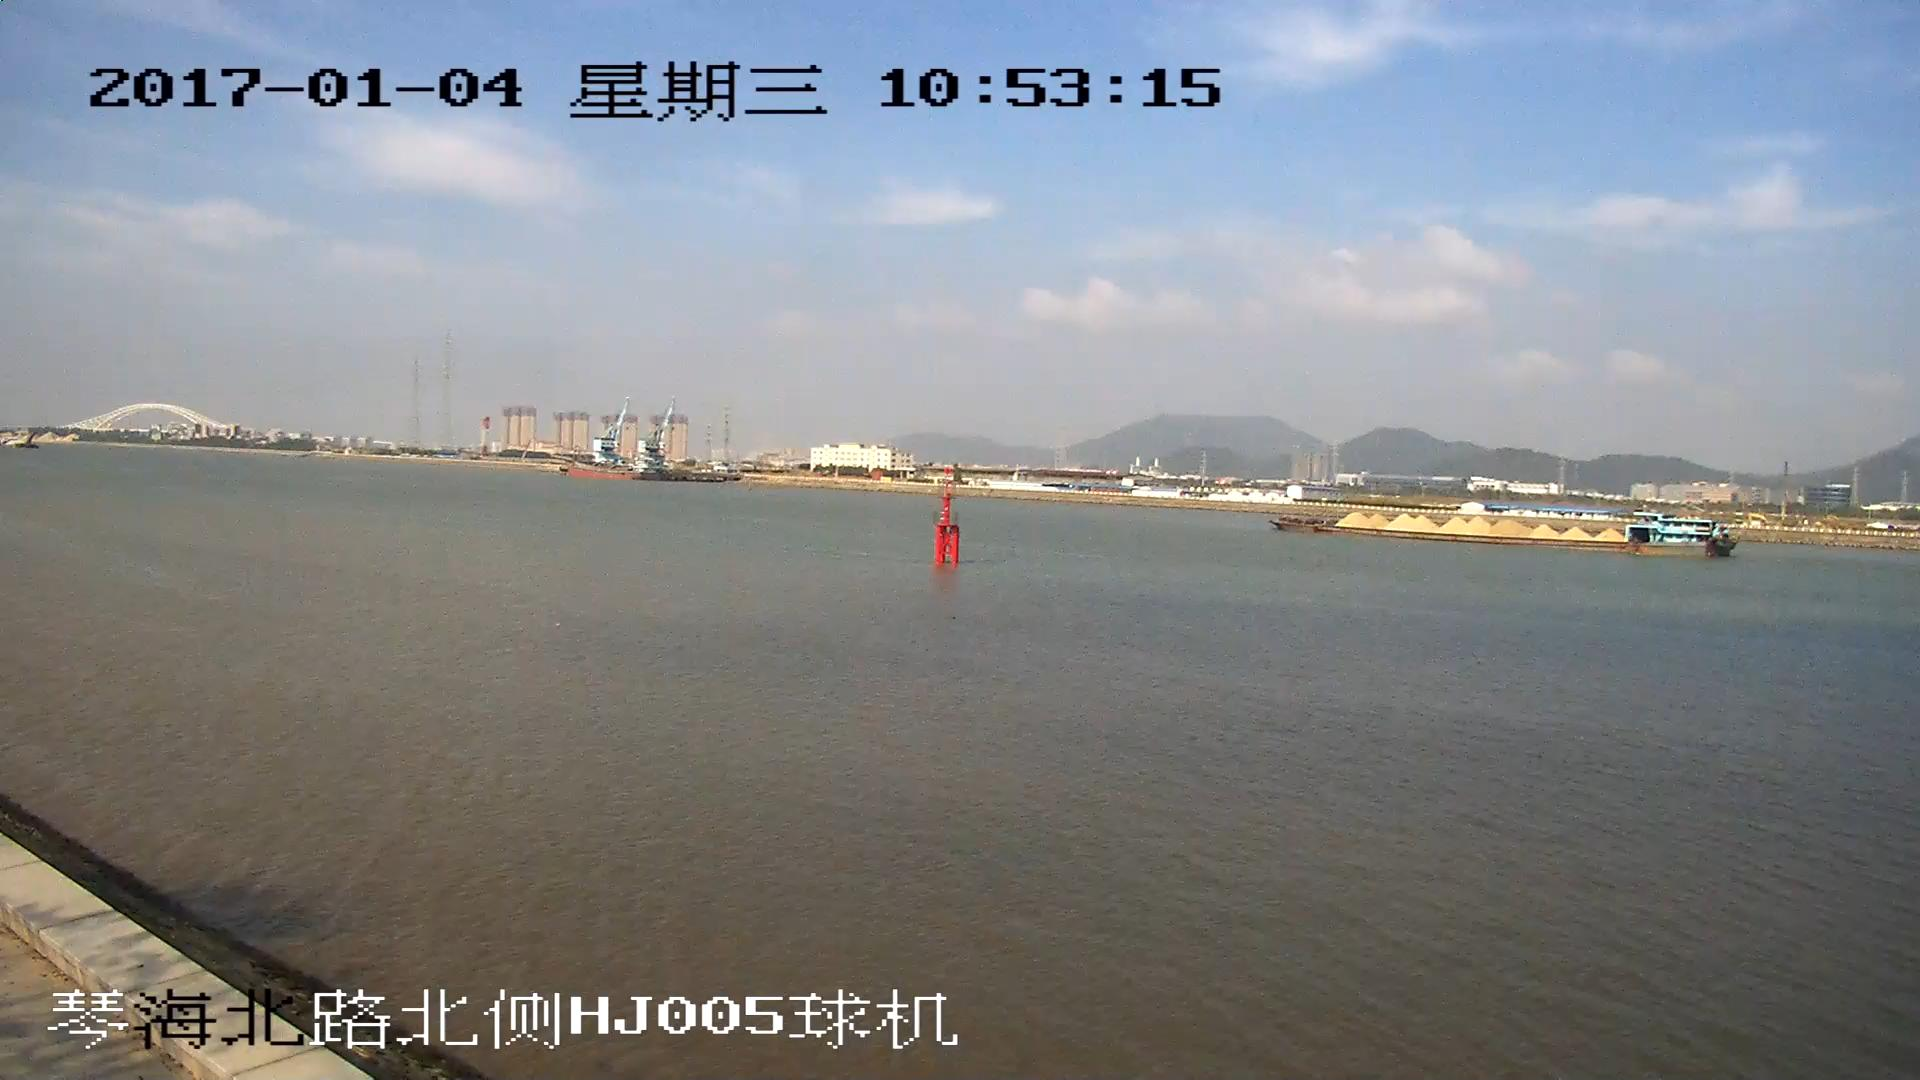ore carrier: (1271, 509, 1735, 558)
